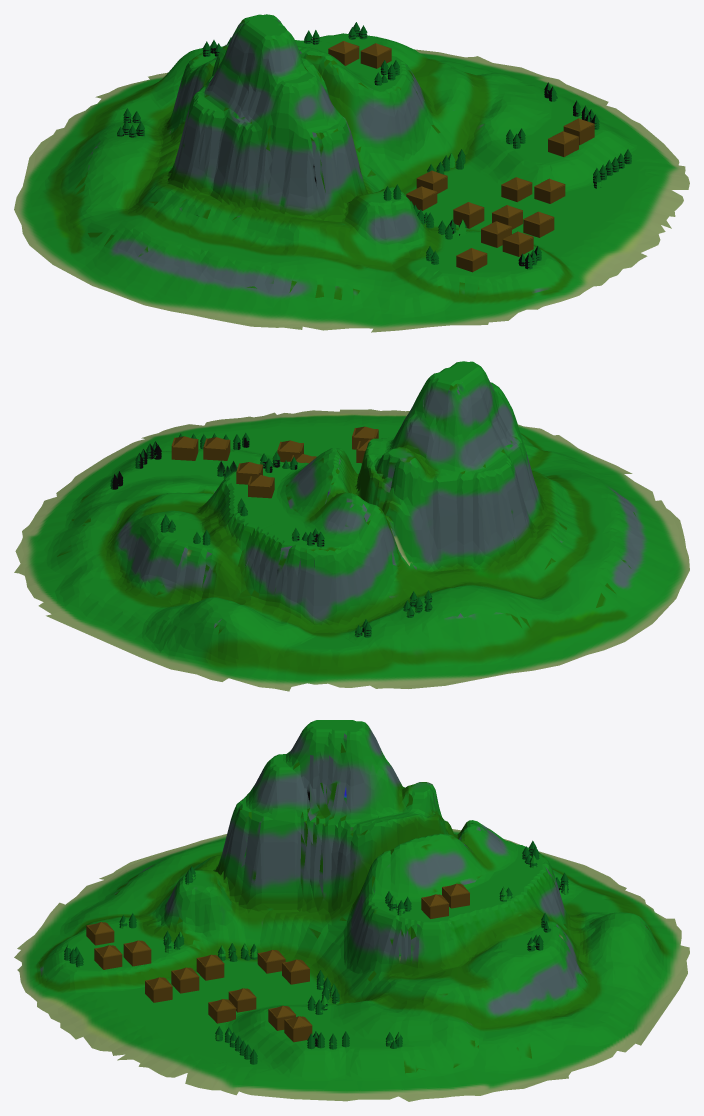
Rendered from islandv3.3.2.obj.
The picture shows the model from 3 angles, top to bottom: view 1: azimuth 30°, elevation 25°; view 2: azimuth 150°, elevation 25°; view 3: azimuth 270°, elevation 25°; orthographic projection.
Visible parts, largest first — view 1: Cube, Cube.001, Cone; view 2: Cube, Cube.001, Cone; view 3: Cube, Cube.001, Cone.
Boxes of the visible parts, x1=… form: Cube: x1=14, y1=14, x2=689, y2=332; Cube.001: x1=328, y1=41, x2=594, y2=272; Cone: x1=117, y1=22, x2=631, y2=269; Cube: x1=14, y1=361, x2=689, y2=691; Cube.001: x1=171, y1=426, x2=378, y2=498; Cone: x1=110, y1=432, x2=432, y2=637; Cube: x1=14, y1=720, x2=689, y2=1101; Cube.001: x1=86, y1=883, x2=469, y2=1042; Cone: x1=64, y1=840, x2=568, y2=1064.
Size of the model in its own units: 15.4 by 4.95 by 15.56.
